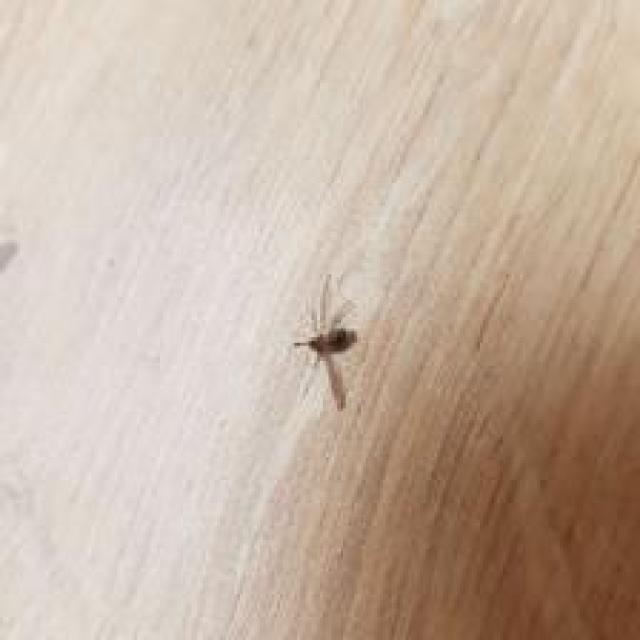Culex: (291, 272, 360, 412)
